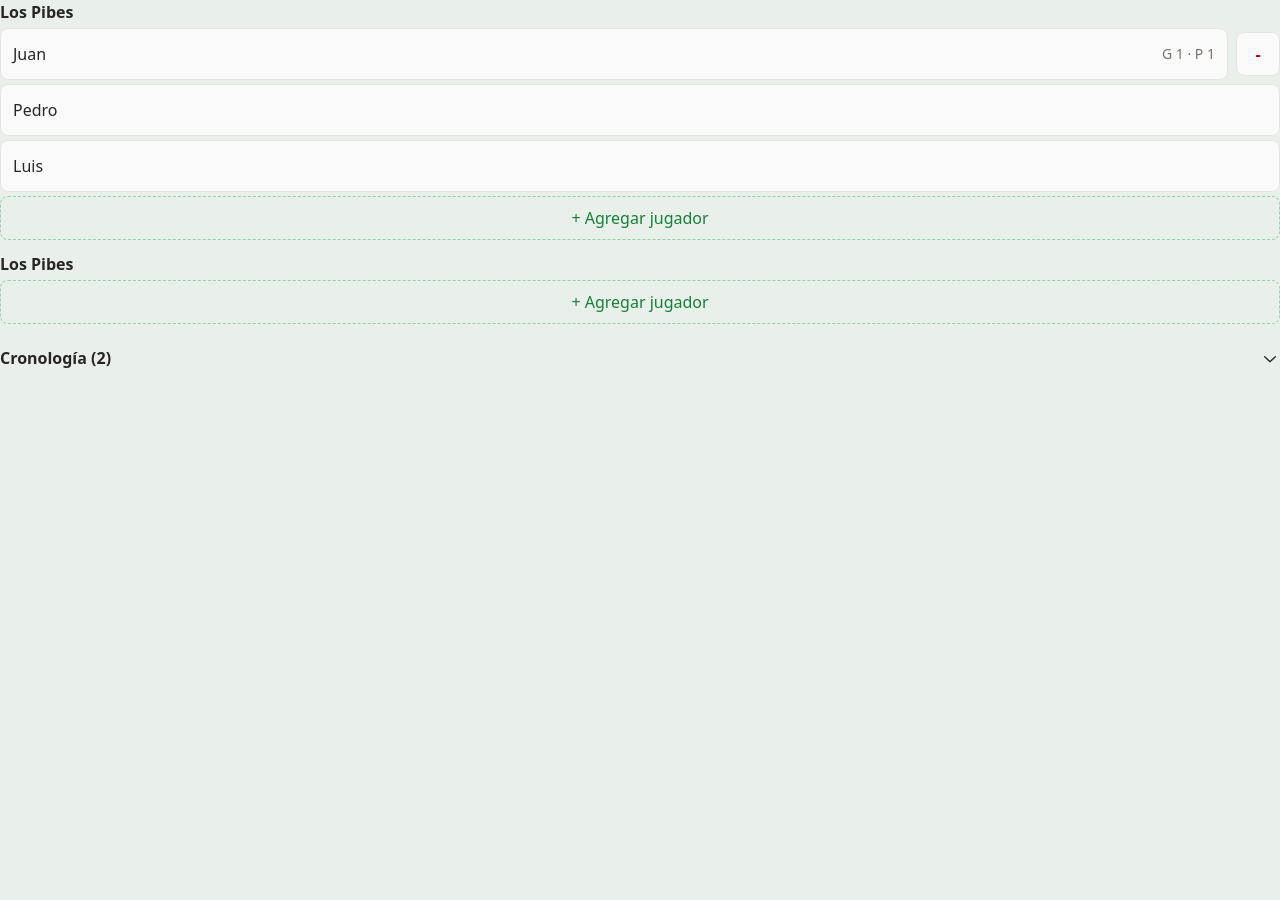
Test: CargaVivo compacta › quitar muestra el minuto del gol cuando existe
Click the button named "Quitar gol de Juan": (1258, 54) [1236,32,1279,76]
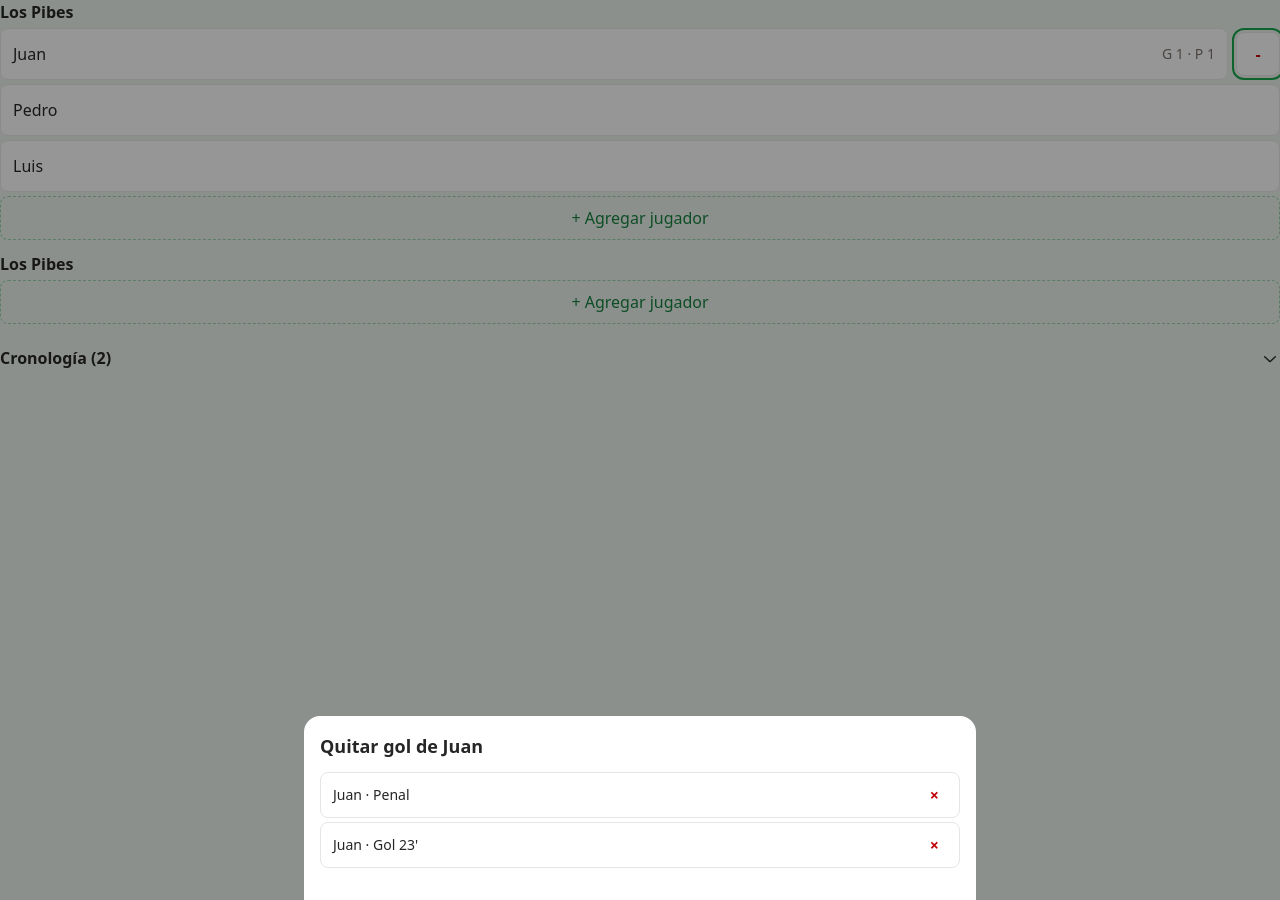
Expected: the heading "Quitar gol de Juan" is shown, [320,734,483,758]
Expected: the text "Juan · Gol 23'" is shown, [333,835,418,855]
